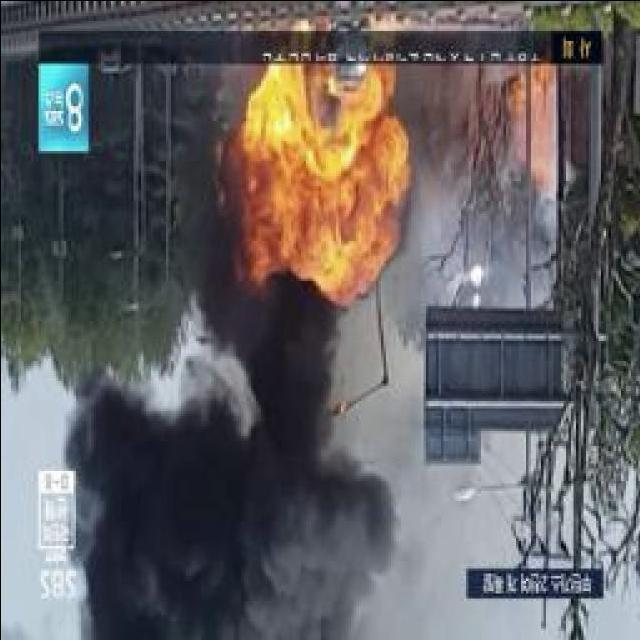Fire: (241, 58, 399, 288)
